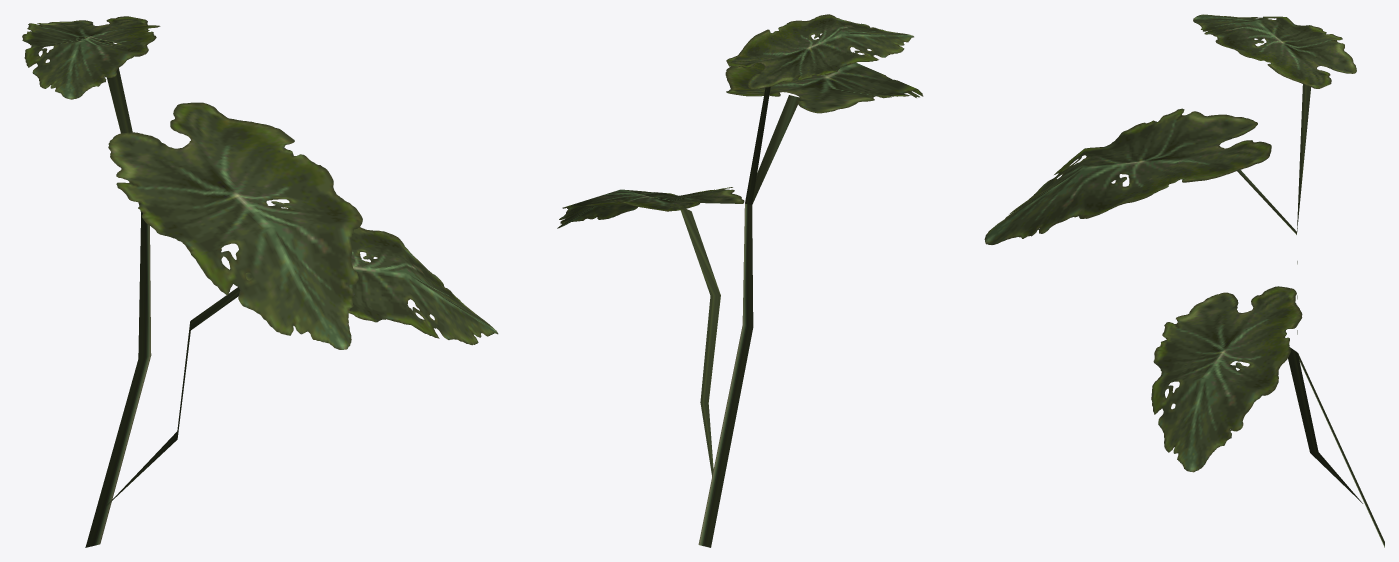
Rendered from yasl_cao4.fbx.
3 views of the same model, side by side, from view 1: azimuth 30°, elevation 25°; view 2: azimuth 150°, elevation 25°; view 3: azimuth 270°, elevation 25° (orthographic). The views are drawn at different scales.
Visible parts, largest first — view 1: yasl_cao4; view 2: yasl_cao4; view 3: yasl_cao4.
Boxes of the visible parts, x1,y1,x2,y2 form: yasl_cao4: (22,16,498,547); yasl_cao4: (557,14,923,547); yasl_cao4: (984,14,1384,547).
Size of the model in its own units: 507 by 597 by 447.
